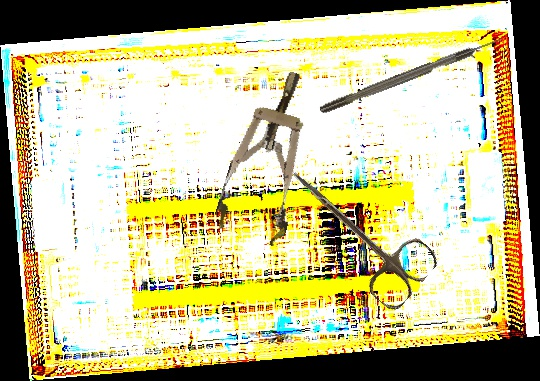Hook Surgical: (318, 34, 506, 115)
Iris Scissors: (267, 148, 443, 315)
Speculum: (210, 62, 332, 249)
